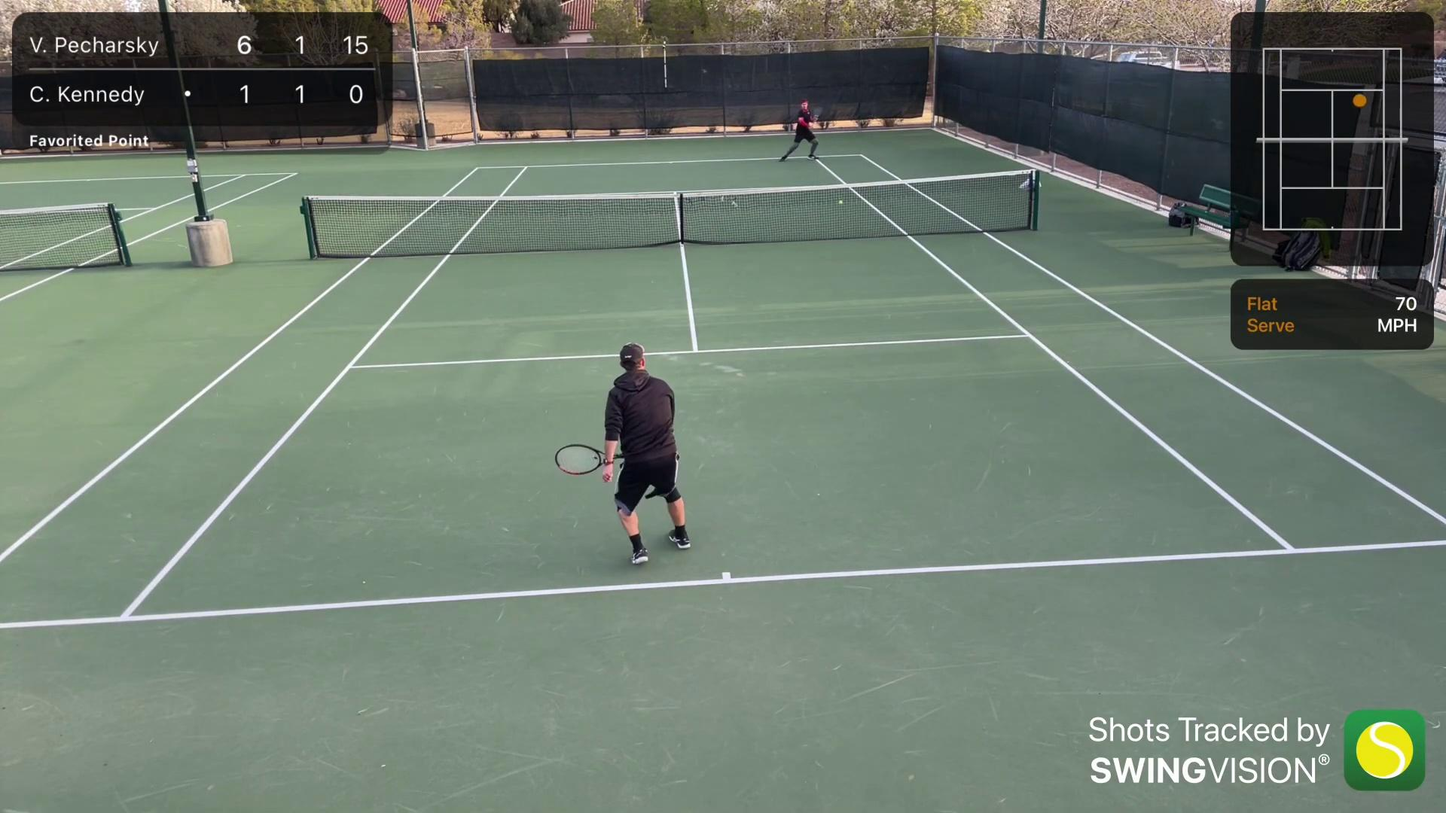ball: (837, 198, 844, 204)
